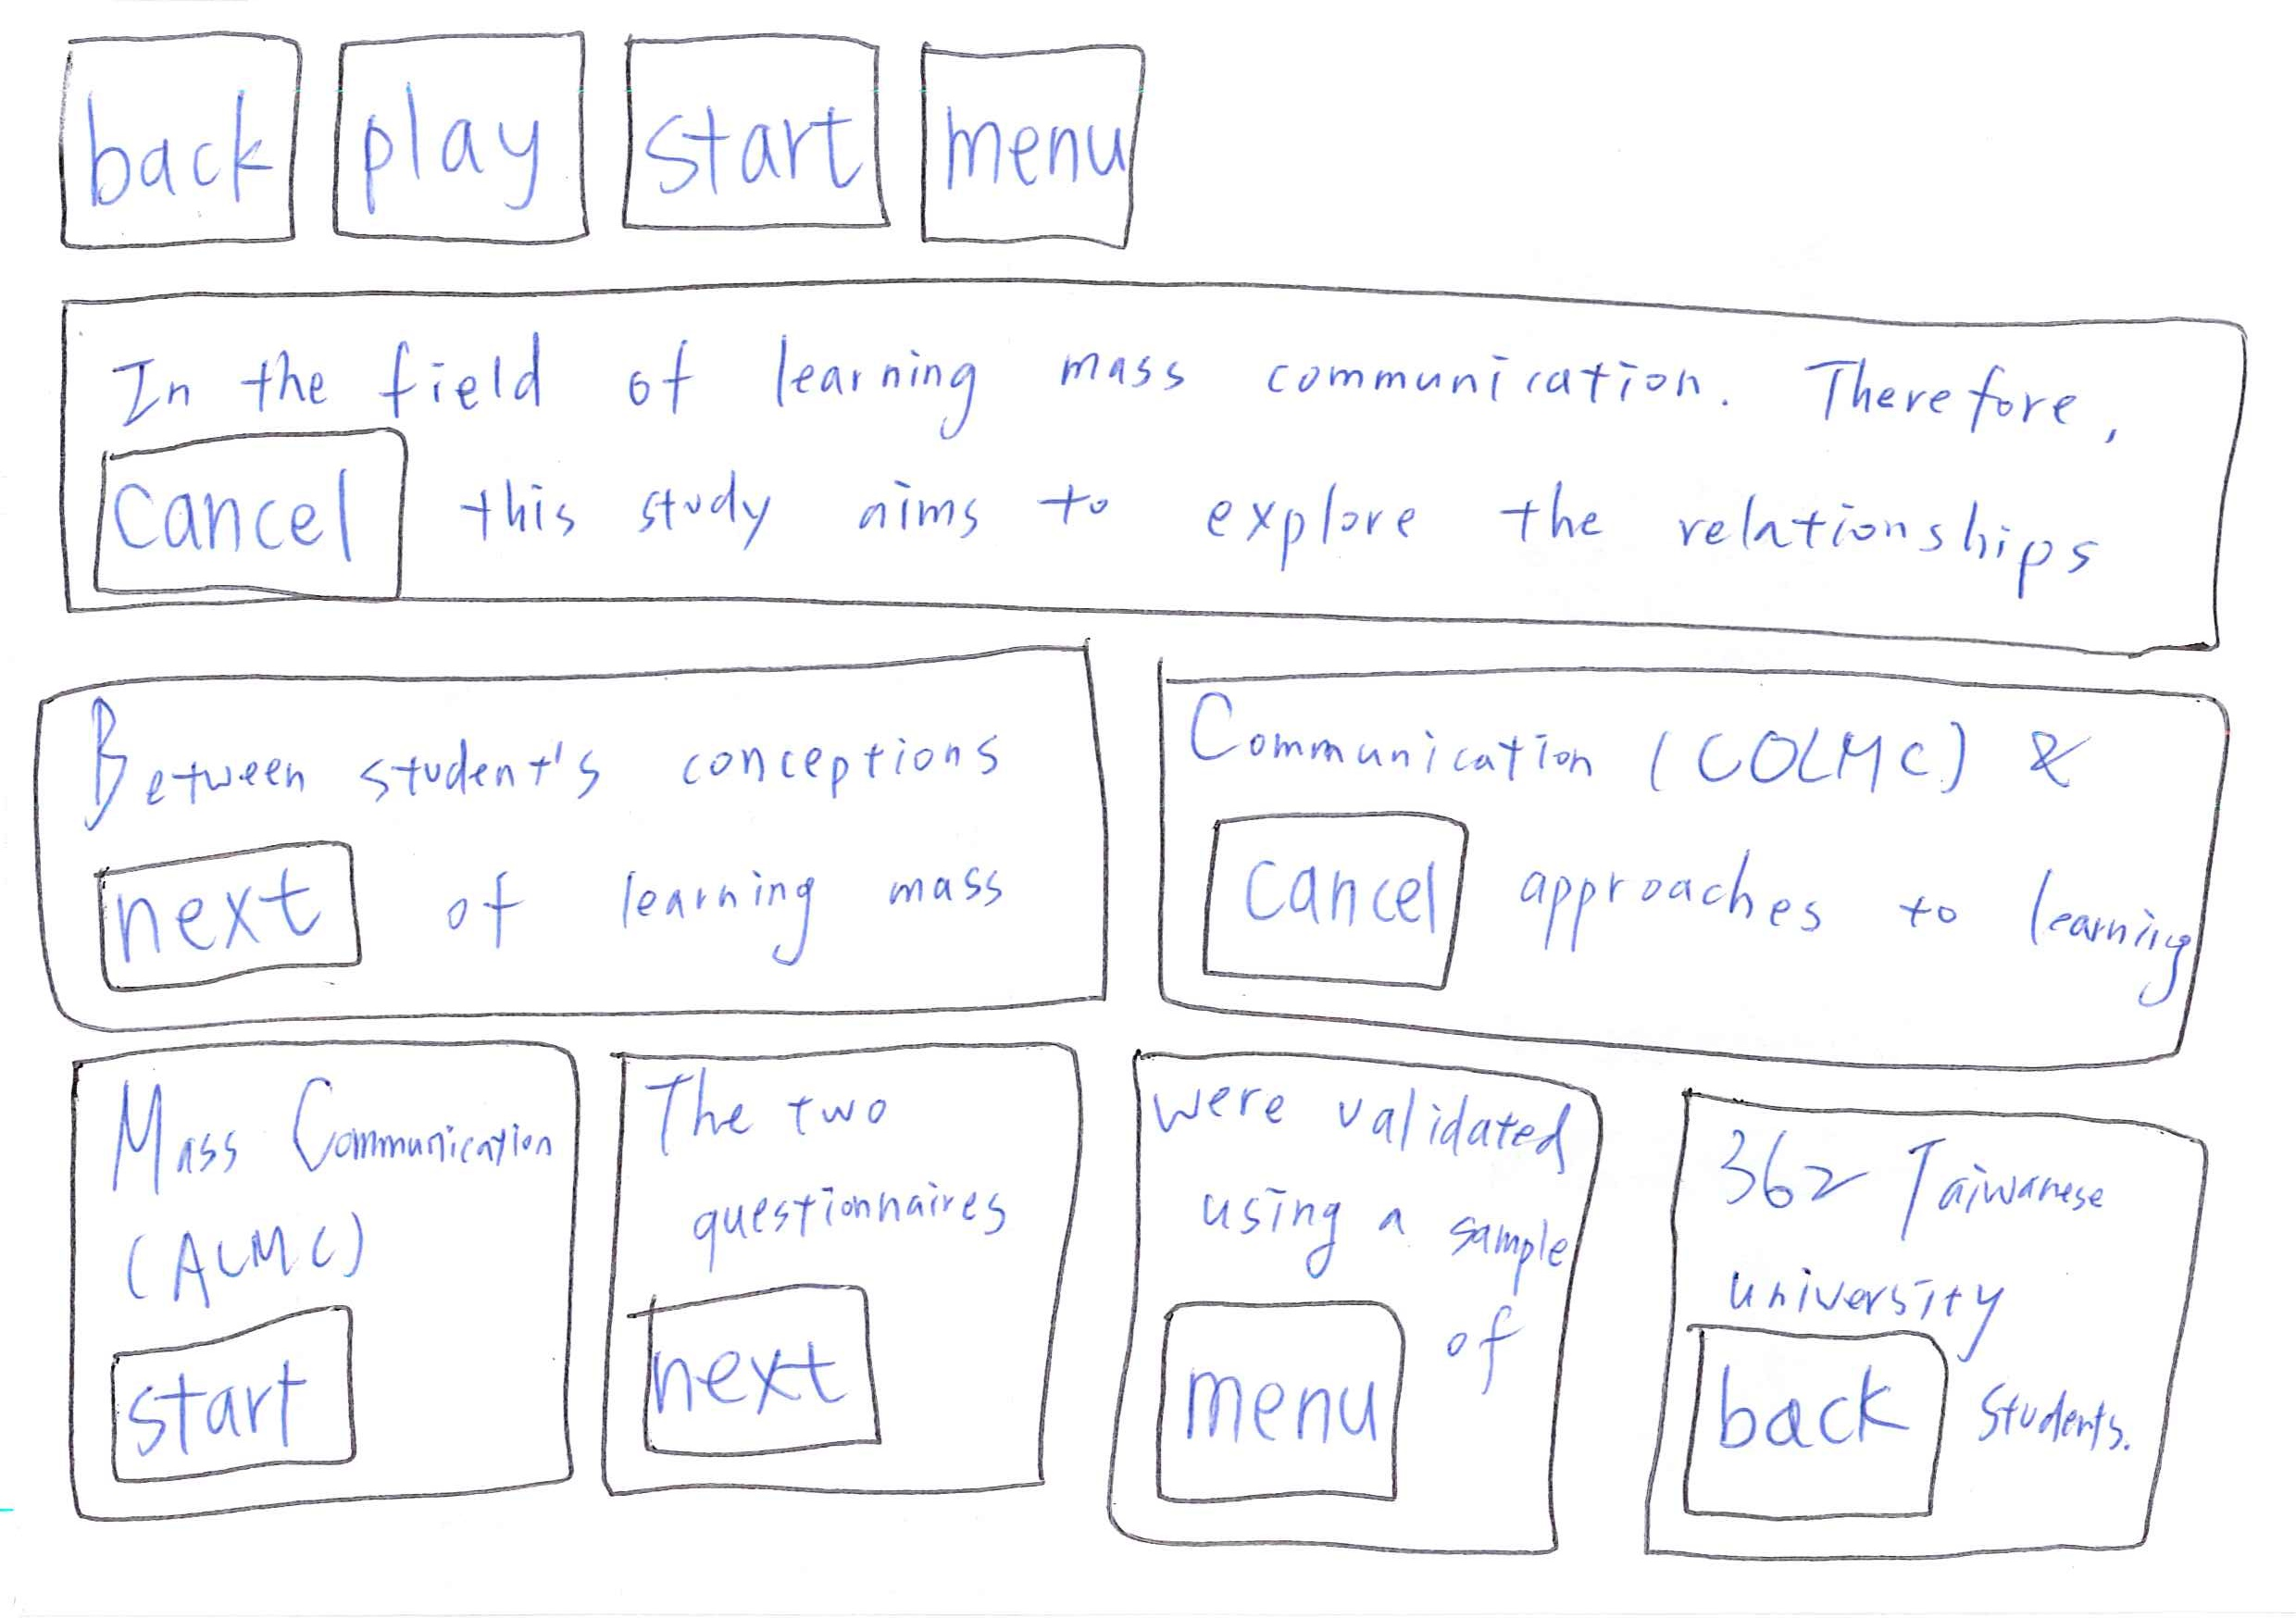back: (39, 25, 319, 270), (1680, 1310, 1953, 1532)
cancel: (1175, 797, 1496, 995)
double: (1135, 641, 2296, 1091), (2, 616, 1133, 1037)
menu: (886, 19, 1187, 261), (1130, 1271, 1413, 1523)
next: (602, 1273, 904, 1476)
play: (312, 11, 602, 259)
quadruple: (1611, 1047, 2240, 1576), (21, 1014, 608, 1557), (569, 1009, 1096, 1543), (1081, 1030, 1608, 1564)
row: (4, 1023, 2296, 1592), (4, 623, 2296, 1108), (4, 268, 2296, 704), (4, 14, 2296, 277)
single: (25, 266, 2296, 693)
small-title: (112, 317, 2116, 464), (1205, 681, 2105, 818), (82, 681, 997, 804), (1737, 1115, 2142, 1231), (126, 1065, 548, 1175), (1166, 1087, 1564, 1192), (657, 1073, 909, 1157)
start: (601, 12, 909, 261), (72, 1291, 399, 1513)
text: (1538, 849, 2177, 1002), (403, 827, 1012, 970), (1184, 1175, 1555, 1285), (1977, 1299, 2137, 1487), (688, 1171, 1032, 1257), (86, 1201, 398, 1294), (1713, 1249, 2046, 1312), (1457, 1273, 1508, 1392)
